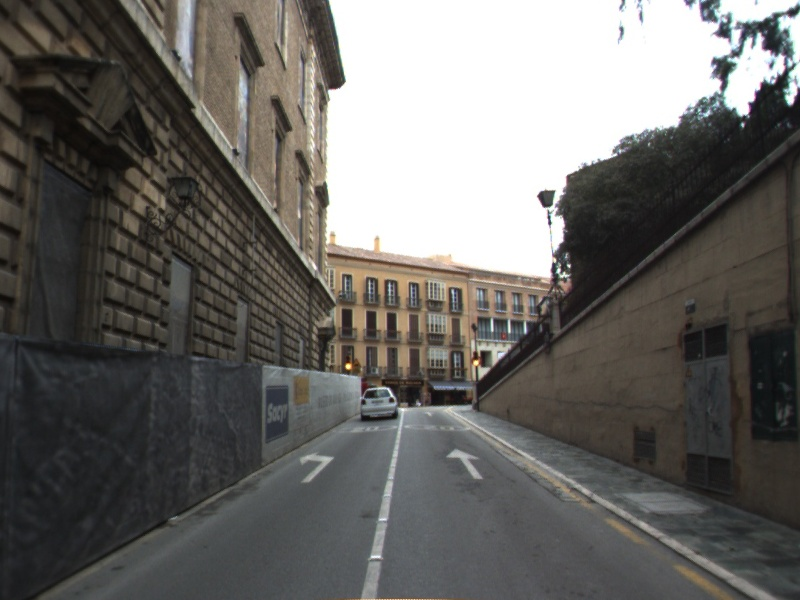LEFT: (298, 450, 336, 484)
STRAIGHT: (445, 446, 485, 480), (422, 409, 436, 418)
